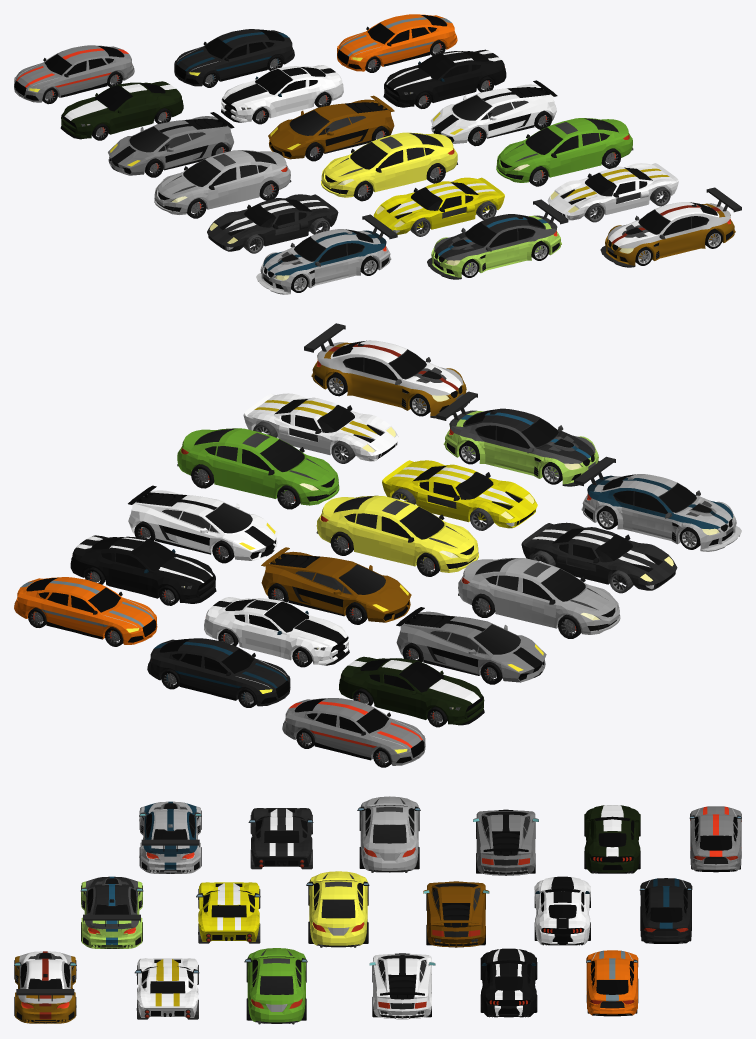
Rendered from asset_of_low-poly_cars_part_2.glb.
3 views of the same model, one above another, from view 1: azimuth 30°, elevation 25°; view 2: azimuth 150°, elevation 25°; view 3: azimuth 270°, elevation 25° (orthographic). The views are drawn at different scales.
Parts seen in each view (by area): view 1: Mazda.002, Mazda, Mazda.001, Bmw, Bmw.001, Bmw.002, lambo_3, lambo_2, Ford.001, Ford, Ford.002, mustang_2 (+6 smaller); view 2: Mazda.002, Mazda, Mazda.001, Bmw.001, Bmw.002, Bmw, lambo_3, lambo_2, mustang_3, mustang_2, Ford.002, Ford.001 (+6 smaller); view 3: Mazda, Mazda.001, Mazda.002, Bmw, Bmw.001, Bmw.002, lambo_2, lambo_3, car_lambo, mustang_3, Ford.002, Ford (+6 smaller).
Part boxes in pixels (box(x1,y1,x2,y2)): Mazda.002: box(496, 118, 633, 186); Mazda: box(154, 150, 291, 218); Mazda.001: box(321, 132, 457, 201); Bmw: box(600, 187, 741, 267); Bmw.001: box(256, 214, 397, 294); Bmw.002: box(427, 199, 568, 279); lambo_3: box(430, 80, 557, 146); lambo_2: box(268, 95, 394, 161); Ford.001: box(547, 163, 678, 222); Ford: box(207, 194, 338, 253); Ford.002: box(373, 177, 504, 236); mustang_2: box(221, 65, 343, 124); Mazda.002: box(177, 428, 339, 509); Mazda: box(458, 558, 620, 638); Mazda.001: box(316, 495, 478, 576); Bmw.001: box(574, 456, 741, 551); Bmw.002: box(436, 391, 599, 486); Bmw: box(304, 323, 469, 418); lambo_3: box(128, 485, 278, 563); lambo_2: box(261, 547, 411, 624); mustang_3: box(70, 535, 216, 605); mustang_2: box(204, 597, 349, 667); Ford.002: box(382, 460, 537, 530); Ford.001: box(243, 393, 399, 463); Mazda: box(357, 796, 420, 872); Mazda.001: box(306, 871, 369, 947); Mazda.002: box(244, 948, 307, 1024); Bmw: box(14, 951, 76, 1023); Bmw.001: box(139, 801, 201, 873); Bmw.002: box(80, 876, 143, 948); lambo_2: box(423, 881, 489, 947); lambo_3: box(369, 953, 435, 1019); car_lambo: box(473, 809, 538, 875); mustang_3: box(480, 948, 537, 1017); Ford.002: box(196, 882, 260, 943); Ford: box(248, 808, 313, 869).
Bounding box in the file's own units: 15.69 × 1.5 × 22.18.
2 materials, 2 textured.
